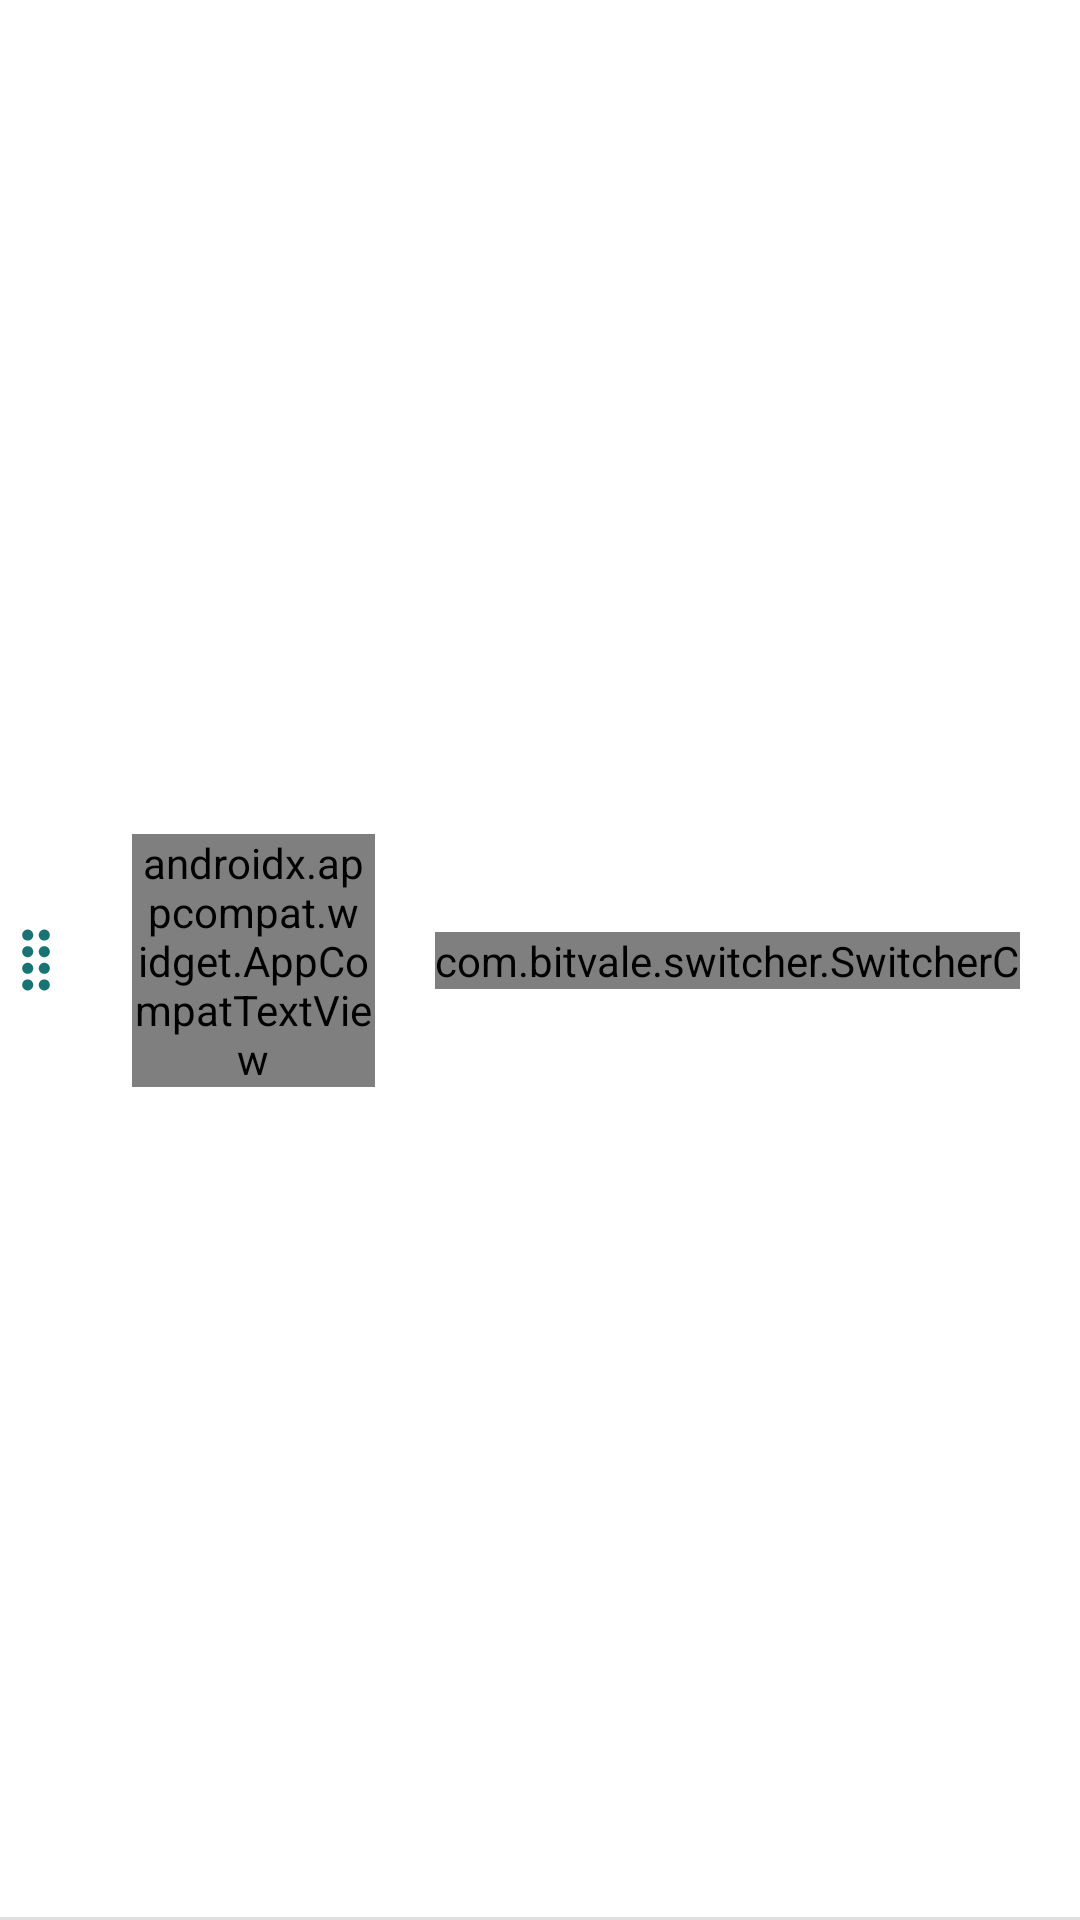

Icons on this 1080 x 1920 Android screen, each with its box as (x1,y1,x2,y2):
drag and drop: (22,929,50,991)
